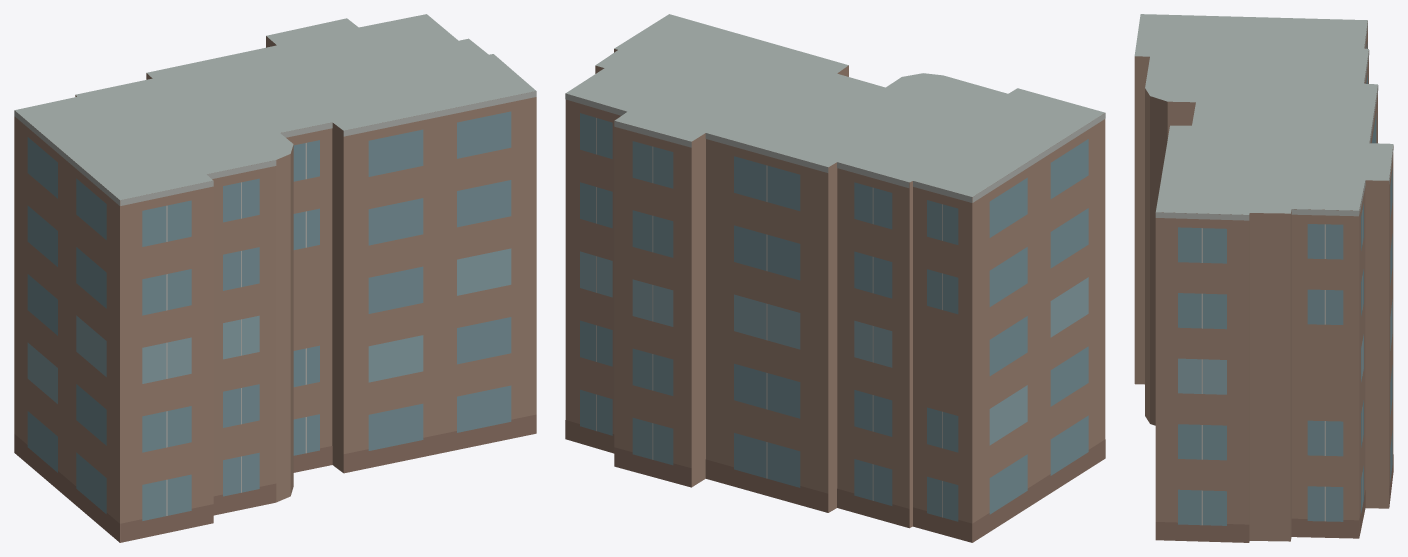
Rendered from survey-upis-33046057.glb.
3 views of the same model, side by side, from view 1: azimuth 30°, elevation 25°; view 2: azimuth 150°, elevation 25°; view 3: azimuth 270°, elevation 25° (orthographic). The views are drawn at different scales.
Parts seen in each view (by area): view 1: survey-upis-33046057.tmp; view 2: survey-upis-33046057.tmp; view 3: survey-upis-33046057.tmp.
Part boxes in pixels (x1,y1,x2,y2): survey-upis-33046057.tmp: (14, 14, 536, 542); survey-upis-33046057.tmp: (565, 14, 1105, 542); survey-upis-33046057.tmp: (1134, 14, 1393, 542).
Bounding box in the file's own units: 18.54 × 14.1 × 10.1.
